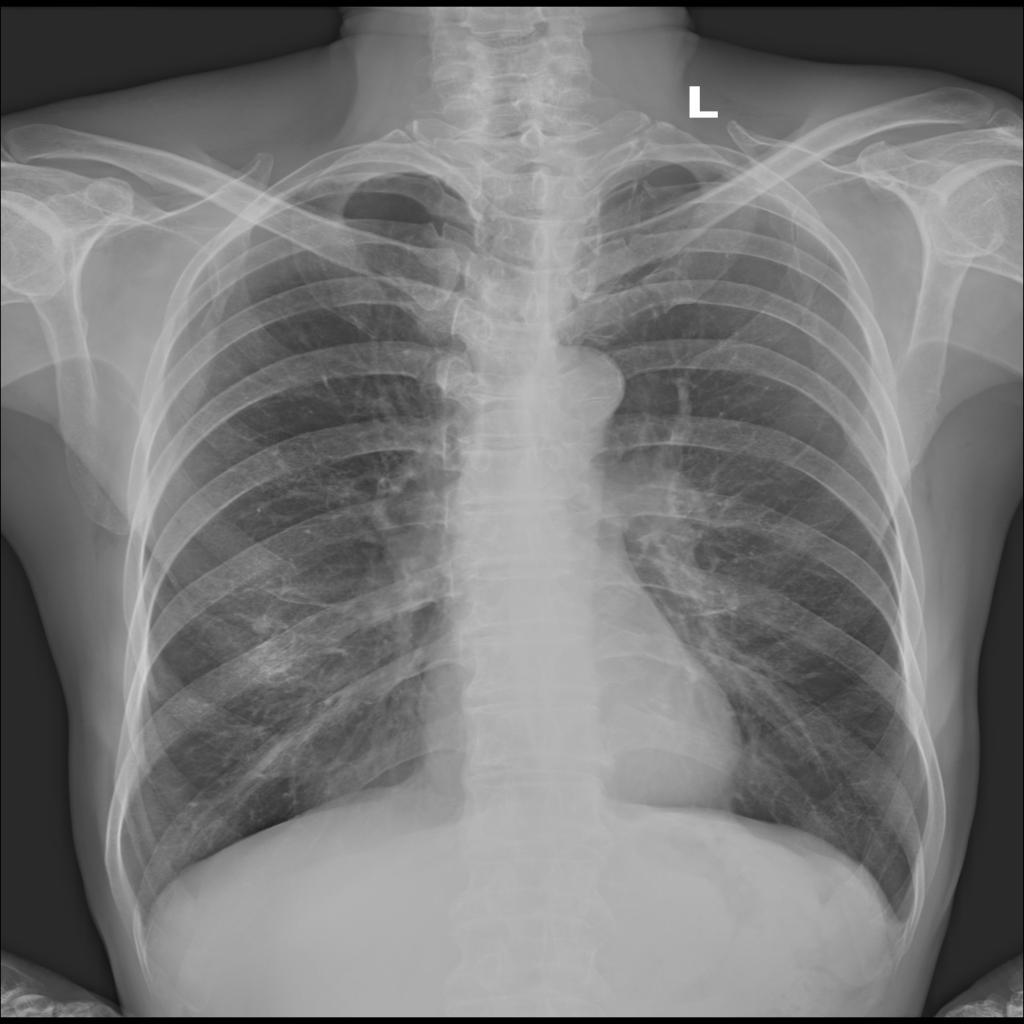Nodule: (251, 616, 276, 639)
